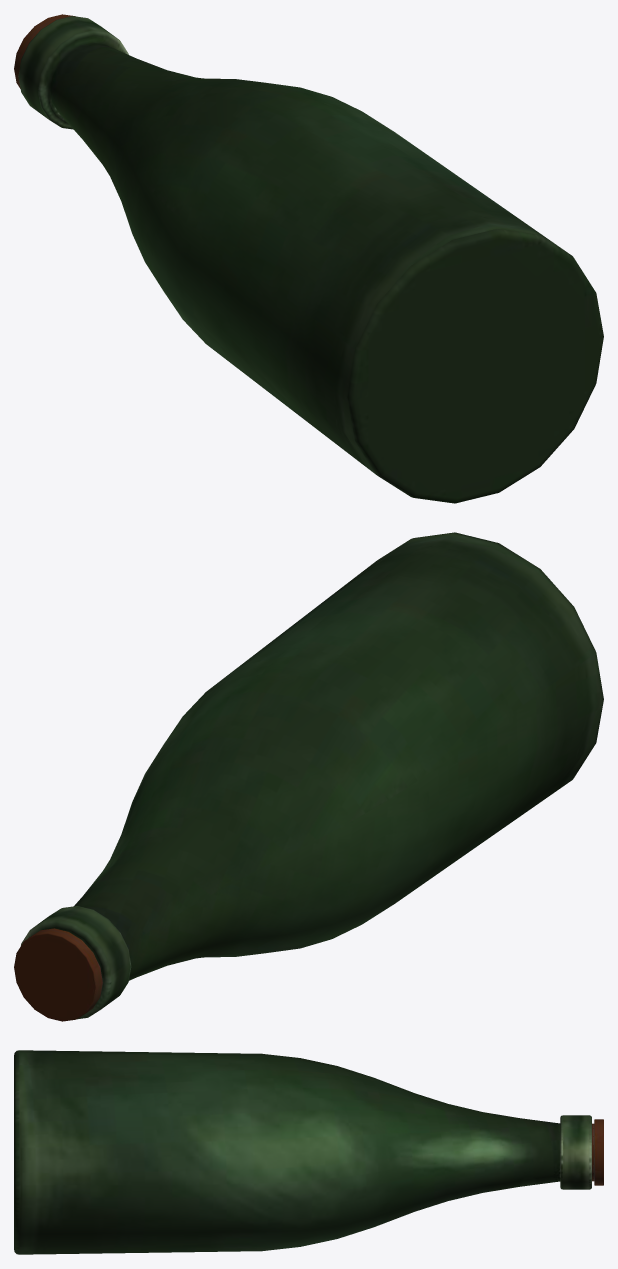
File: Botella 2 Fin.FBX
The picture shows the model from 3 angles, top to bottom: view 1: azimuth 30°, elevation 25°; view 2: azimuth 150°, elevation 25°; view 3: azimuth 270°, elevation 25°; orthographic projection. The views are drawn at different scales.
Parts seen in each view (by area): view 1: Botella2; view 2: Botella2; view 3: Botella2.
Part boxes in pixels (x1,y1,x2,y2): Botella2: (14, 14, 603, 503); Botella2: (14, 532, 603, 1021); Botella2: (14, 1050, 603, 1254).
Size of the model in its own units: 10.87 by 10.71 by 31.26.
Materials: 1 (1 with a texture image).
